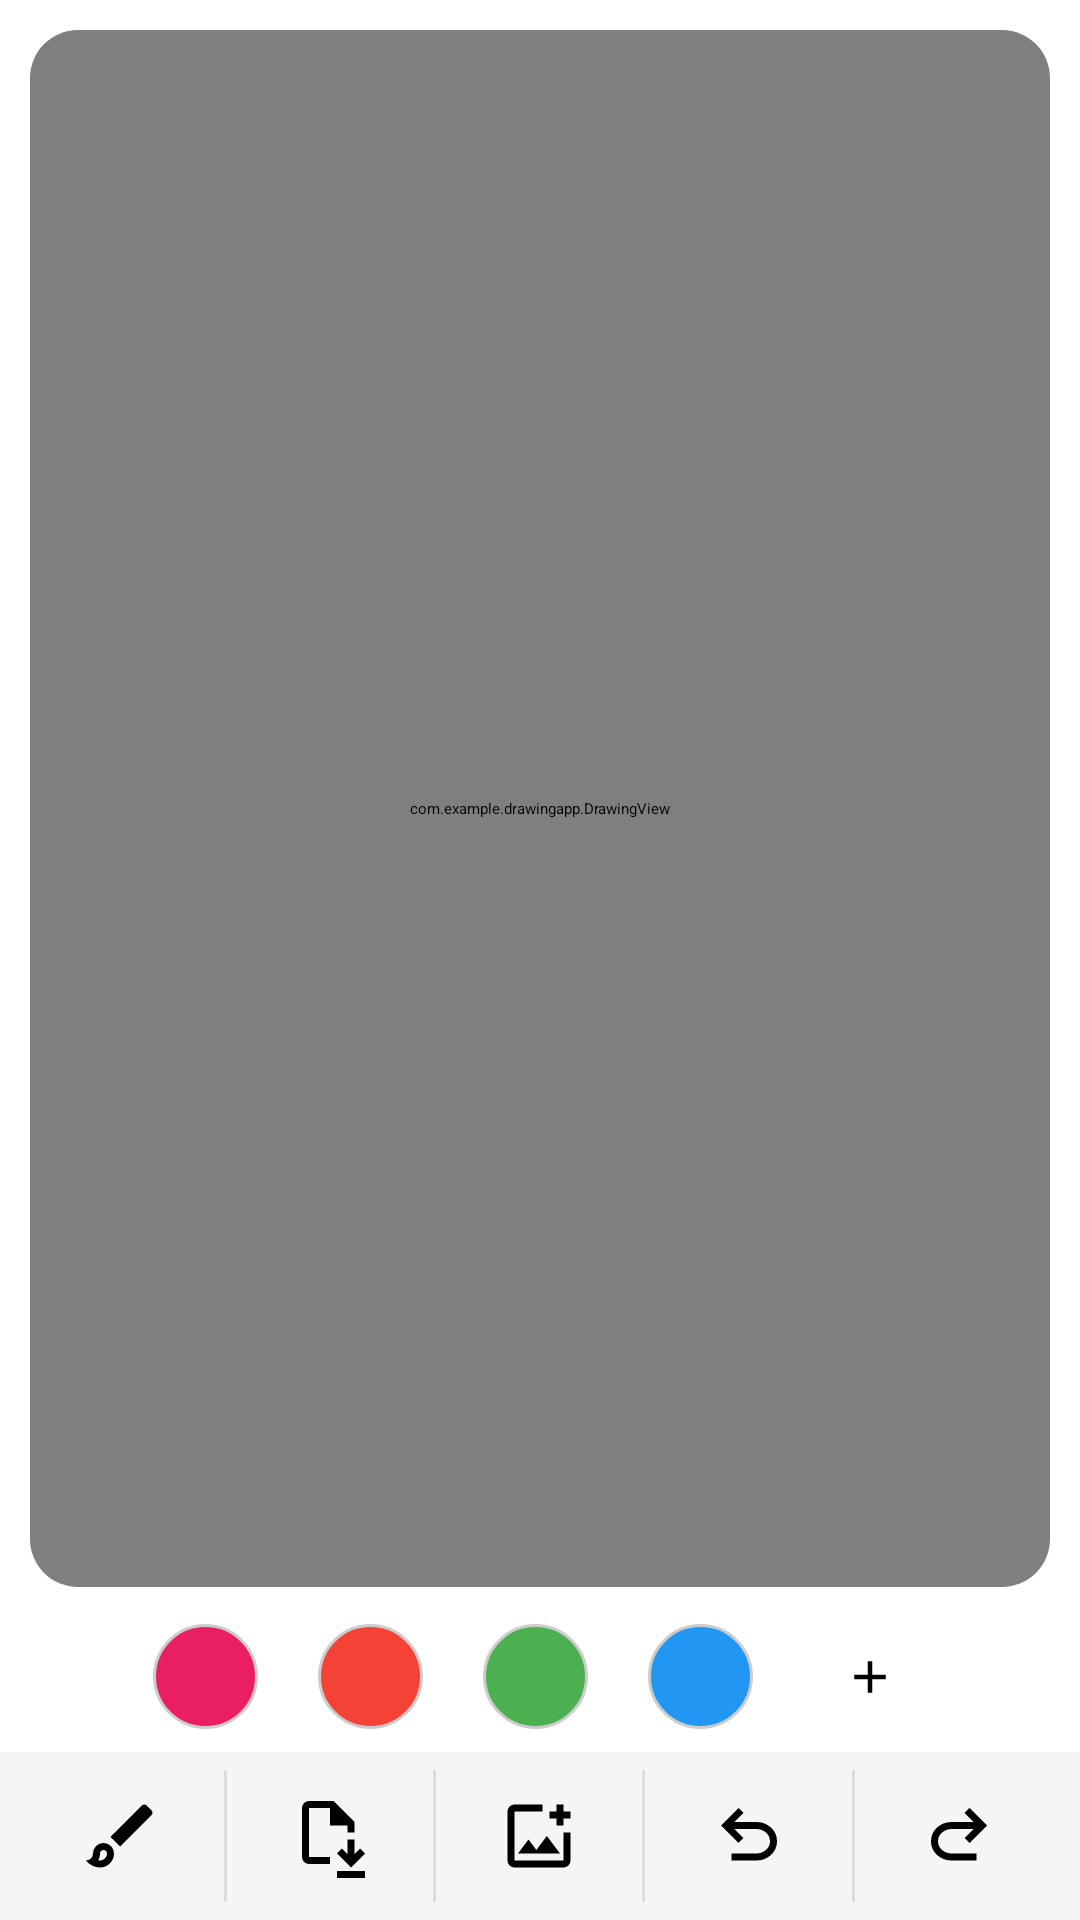

Where to tap for icons on this 1080 × 1920 app screen, as [x,y]:
gallery: [539,1836]
plus: [870,1677]
redo: [959,1834]
save: [333,1839]
stroke: [119,1836]
undo: [749,1834]
